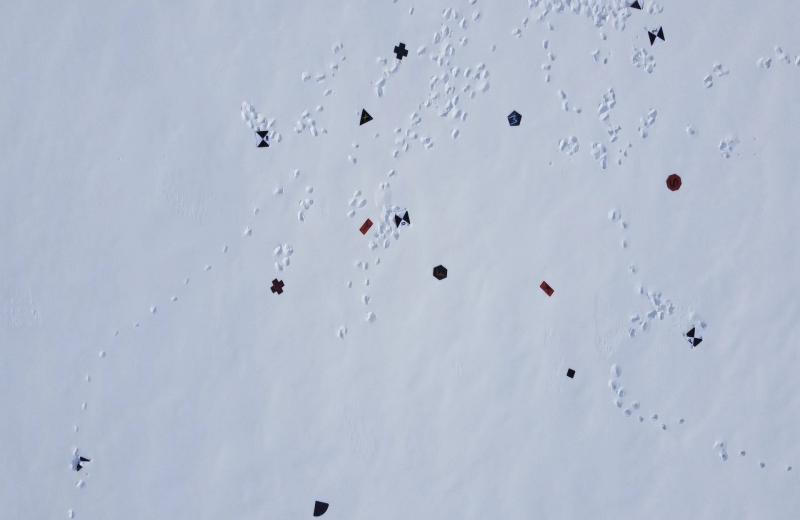Cross: (393, 41, 410, 61), (269, 277, 286, 296)
Hexagon: (432, 264, 450, 282)
Octagon: (665, 173, 683, 193)
Pentagon: (506, 110, 522, 128)
Quarter Circle: (312, 497, 330, 518)
Rectangle: (537, 279, 556, 300), (358, 218, 376, 238)
Square: (565, 367, 577, 382)
Triangle: (357, 108, 375, 126)
